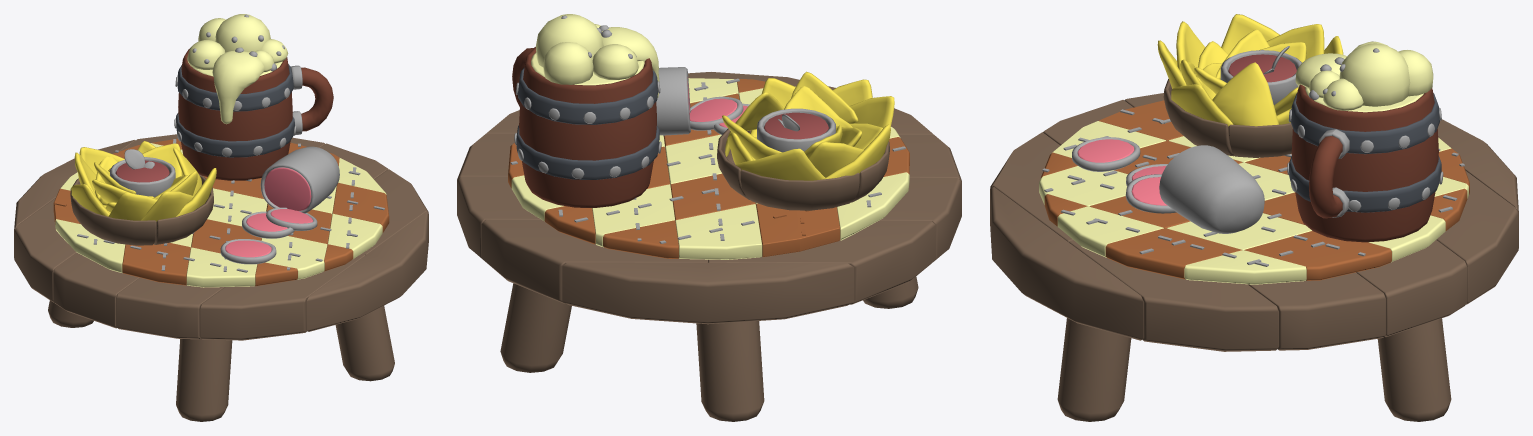
File: NachosTable.fbx
3 renders of one model, left to right at view 1: azimuth 30°, elevation 25°; view 2: azimuth 150°, elevation 25°; view 3: azimuth 270°, elevation 25°, orthographic. The views are drawn at different scales.
Visible parts, largest first — view 1: M_Nachos, S_Nachos; view 2: M_Nachos, S_Nachos; view 3: M_Nachos, S_Nachos.
Part boxes in pixels (box(x1,y1,x2,y2)): M_Nachos: box(14, 61, 428, 421); S_Nachos: box(53, 14, 386, 287); M_Nachos: box(457, 52, 961, 421); S_Nachos: box(511, 14, 909, 258); M_Nachos: box(990, 54, 1518, 421); S_Nachos: box(1041, 14, 1469, 284).
Size of the model in its own units: 680 by 506 by 678.
